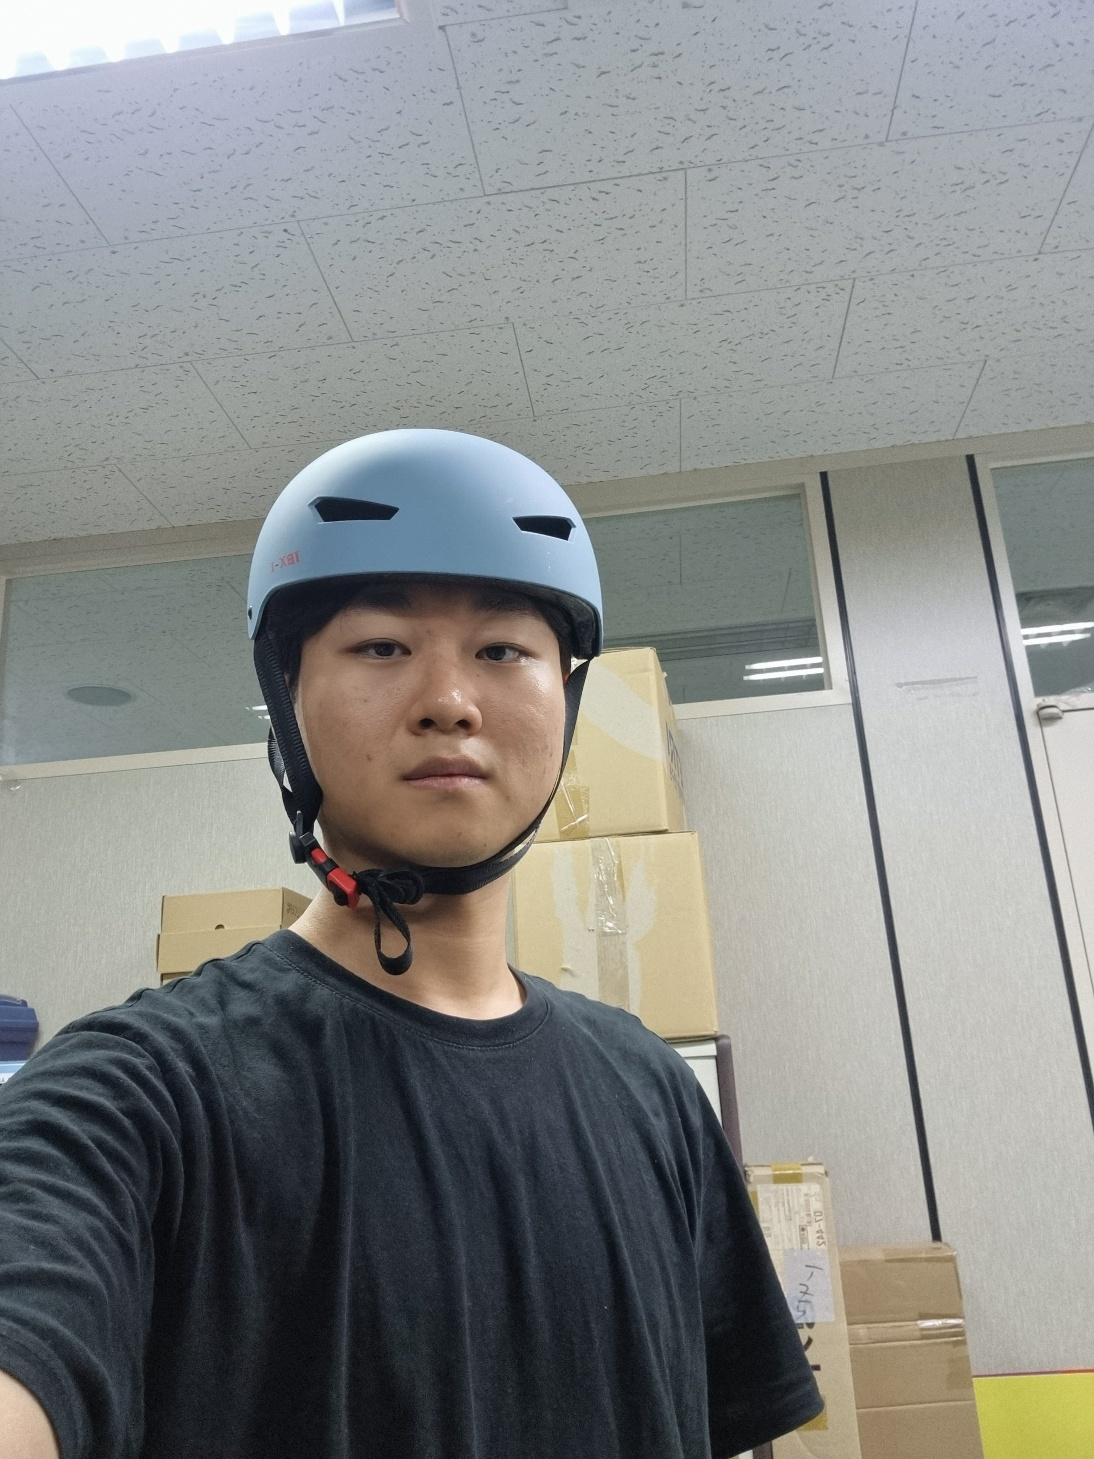Helmet: (218, 393, 622, 959)
